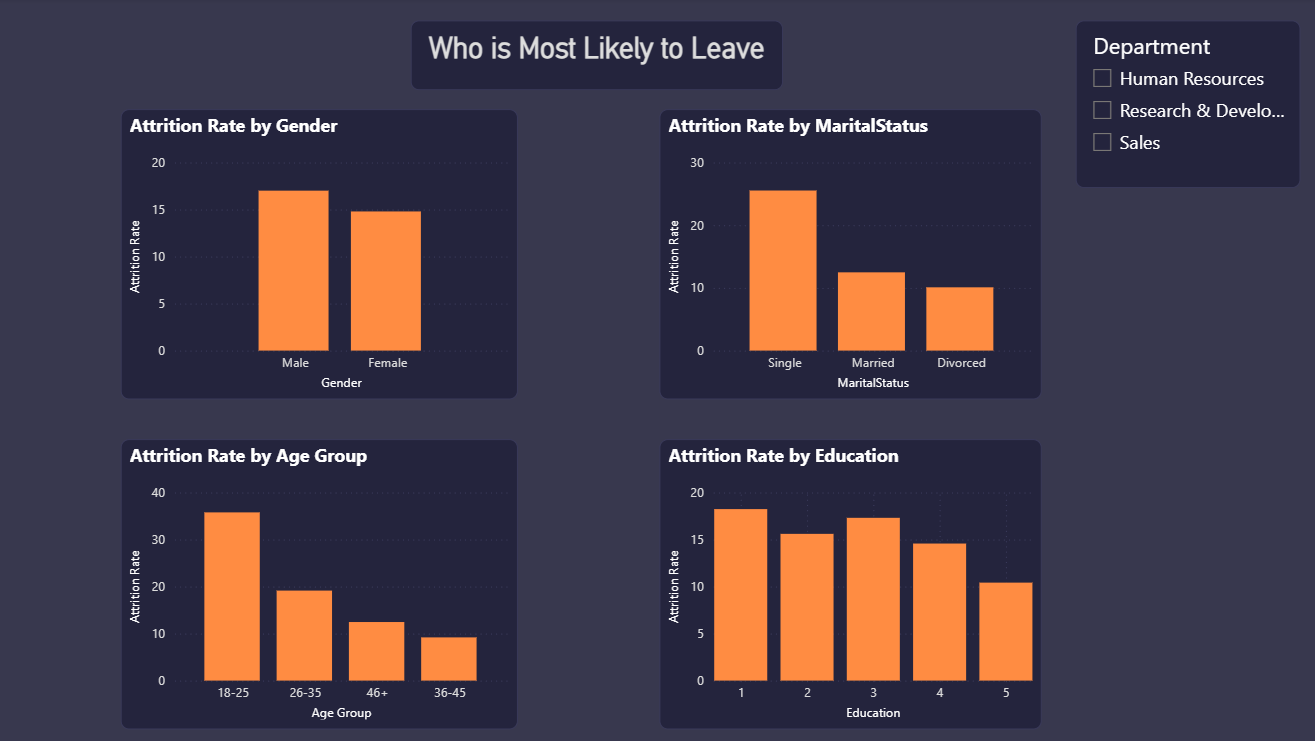

This screenshot's page, from the dashboard's own definition file:
{"tool":"powerbi","page":{"name":"Who Leaves","canvas":[1280,720],"ordinal":2},"visuals":[{"type":"clusteredColumnChart","fields":{"Category":["WA_Fn-UseC_-HR-Employee-Attrition.Gender"],"Y":["WA_Fn-UseC_-HR-Employee-Attrition.Attrition Rate"]},"box":[119.4,107,382.8,279.9],"z":0},{"type":"clusteredColumnChart","fields":{"Category":["WA_Fn-UseC_-HR-Employee-Attrition.MaritalStatus"],"Y":["WA_Fn-UseC_-HR-Employee-Attrition.Attrition Rate"]},"box":[639.5,107,369.1,279.9],"z":1},{"type":"clusteredColumnChart","fields":{"Category":["WA_Fn-UseC_-HR-Employee-Attrition.Age Group"],"Y":["WA_Fn-UseC_-HR-Employee-Attrition.Attrition Rate"]},"box":[119.4,425.4,382.8,279.9],"z":2},{"type":"clusteredColumnChart","fields":{"Category":["WA_Fn-UseC_-HR-Employee-Attrition.Education"],"Y":["WA_Fn-UseC_-HR-Employee-Attrition.Attrition Rate"]},"box":[639.5,425.4,369.1,279.9],"z":3},{"type":"slicer","fields":{"Values":["WA_Fn-UseC_-HR-Employee-Attrition.Department"]},"box":[1041.5,22,216.8,161.9],"z":4},{"type":"textbox","box":[399.3,22,359.5,67.2],"z":5}]}

Visuals, with their boxes in screenshot pixels (x1, y1, x2, y2), scaled from the page's 1280x720 canvas onto the 1315x741 screenshot:
clusteredColumnChart - WA_Fn-UseC_-HR-Employee-Attrition.Gender x WA_Fn-UseC_-HR-Employee-Attrition.Attrition Rate: Rect(123, 110, 516, 398)
clusteredColumnChart - WA_Fn-UseC_-HR-Employee-Attrition.MaritalStatus x WA_Fn-UseC_-HR-Employee-Attrition.Attrition Rate: Rect(657, 110, 1036, 398)
clusteredColumnChart - WA_Fn-UseC_-HR-Employee-Attrition.Age Group x WA_Fn-UseC_-HR-Employee-Attrition.Attrition Rate: Rect(123, 438, 516, 726)
clusteredColumnChart - WA_Fn-UseC_-HR-Employee-Attrition.Education x WA_Fn-UseC_-HR-Employee-Attrition.Attrition Rate: Rect(657, 438, 1036, 726)
slicer - WA_Fn-UseC_-HR-Employee-Attrition.Department: Rect(1070, 23, 1293, 189)
textbox: Rect(410, 23, 780, 92)
